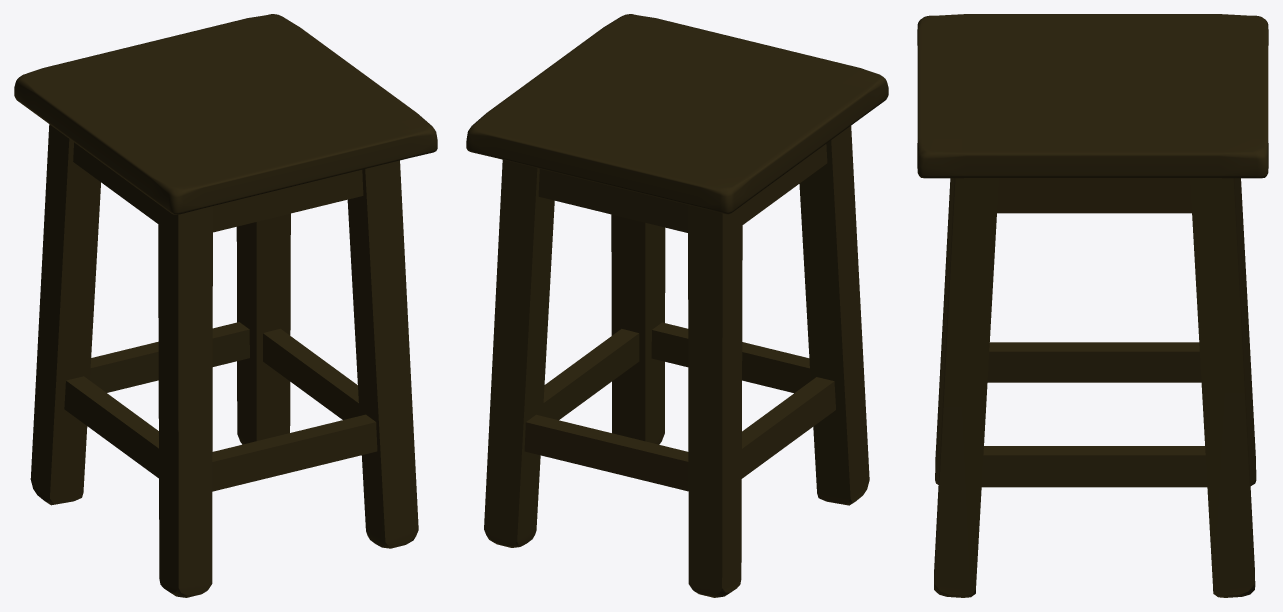
File: Stool.fbx
3 renders of one model, left to right at view 1: azimuth 30°, elevation 25°; view 2: azimuth 150°, elevation 25°; view 3: azimuth 270°, elevation 25°, orthographic. The views are drawn at different scales.
Visible parts, largest first — view 1: painted_wooden_stool.001; view 2: painted_wooden_stool.001; view 3: painted_wooden_stool.001.
Part boxes in pixels (left/top/right/bottom): painted_wooden_stool.001: left=14, top=14, right=437, bottom=597; painted_wooden_stool.001: left=466, top=14, right=888, bottom=597; painted_wooden_stool.001: left=917, top=14, right=1268, bottom=597.
Bounding box in the file's own units: 136 × 205 × 144.
